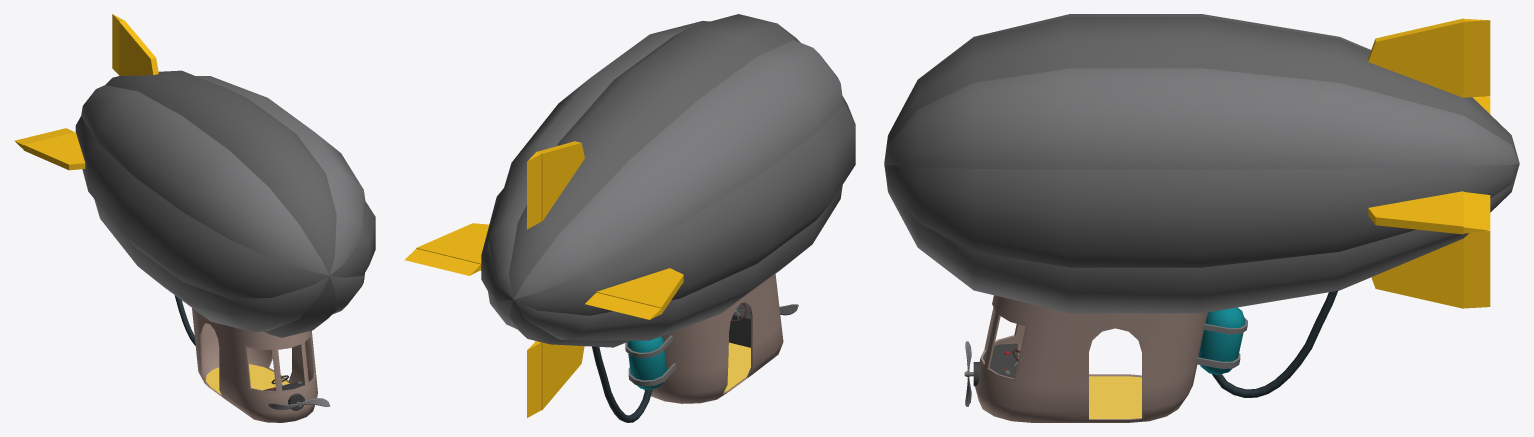
File: bubble_blimp.glb
The picture shows the model from 3 angles, left to right: view 1: azimuth 30°, elevation 25°; view 2: azimuth 150°, elevation 25°; view 3: azimuth 270°, elevation 25°; orthographic projection. The views are drawn at different scales.
Parts seen in each view (by area): view 1: envelope, gondola, rudder_base, gondola_floor, moving_rudders, side_rudders, propeller; view 2: envelope, gondola, rudder_base, moving_rudders, side_rudders, hydrogen_tank, hydrogen_tank_cable, gondola_floor, panel, hydrogen_tank_rings; view 3: envelope, gondola, rudder_base, moving_rudders, gondola_floor, hydrogen_tank, hydrogen_tank_cable, side_rudders, panel, hydrogen_tank_rings.
Boxes of the visible parts, x1,y1,x2,y2 form: envelope: (75, 70, 375, 337); gondola: (192, 308, 317, 422); rudder_base: (23, 20, 158, 170); gondola_floor: (206, 364, 289, 394); moving_rudders: (112, 14, 123, 74); side_rudders: (14, 128, 74, 149); propeller: (268, 398, 330, 409); envelope: (481, 14, 855, 347); gondola: (643, 274, 783, 403); rudder_base: (416, 141, 683, 410); moving_rudders: (527, 152, 541, 417); side_rudders: (404, 248, 661, 319); hydrogen_tank: (627, 336, 666, 389); hydrogen_tank_cable: (592, 346, 652, 422); gondola_floor: (724, 342, 750, 392); panel: (729, 302, 750, 347); hydrogen_tank_rings: (625, 335, 676, 386); envelope: (884, 14, 1519, 313); gondola: (975, 295, 1208, 422); rudder_base: (1368, 18, 1463, 308); moving_rudders: (1463, 18, 1490, 308); gondola_floor: (1089, 376, 1141, 418); hydrogen_tank: (1198, 307, 1245, 374); hydrogen_tank_cable: (1212, 291, 1337, 397); side_rudders: (1463, 96, 1490, 233); panel: (983, 343, 1017, 378); hydrogen_tank_rings: (1195, 317, 1247, 368).
Bounding box in the file's own units: 7.17 × 9.68 × 14.41.
1 material, 1 textured.
